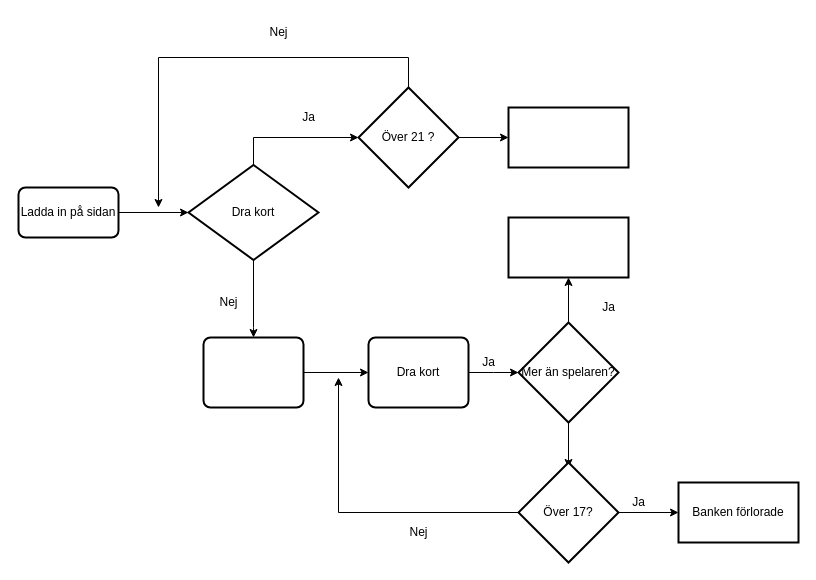
Some shapes in this 816 by 580 pixel diagram are drawn without their labels. The centre of each missing label's shape, as x and y in pixels:
Banken vann: point 568,247
Bankens tur: point 253,372
Spelare förlorar: point 568,137
